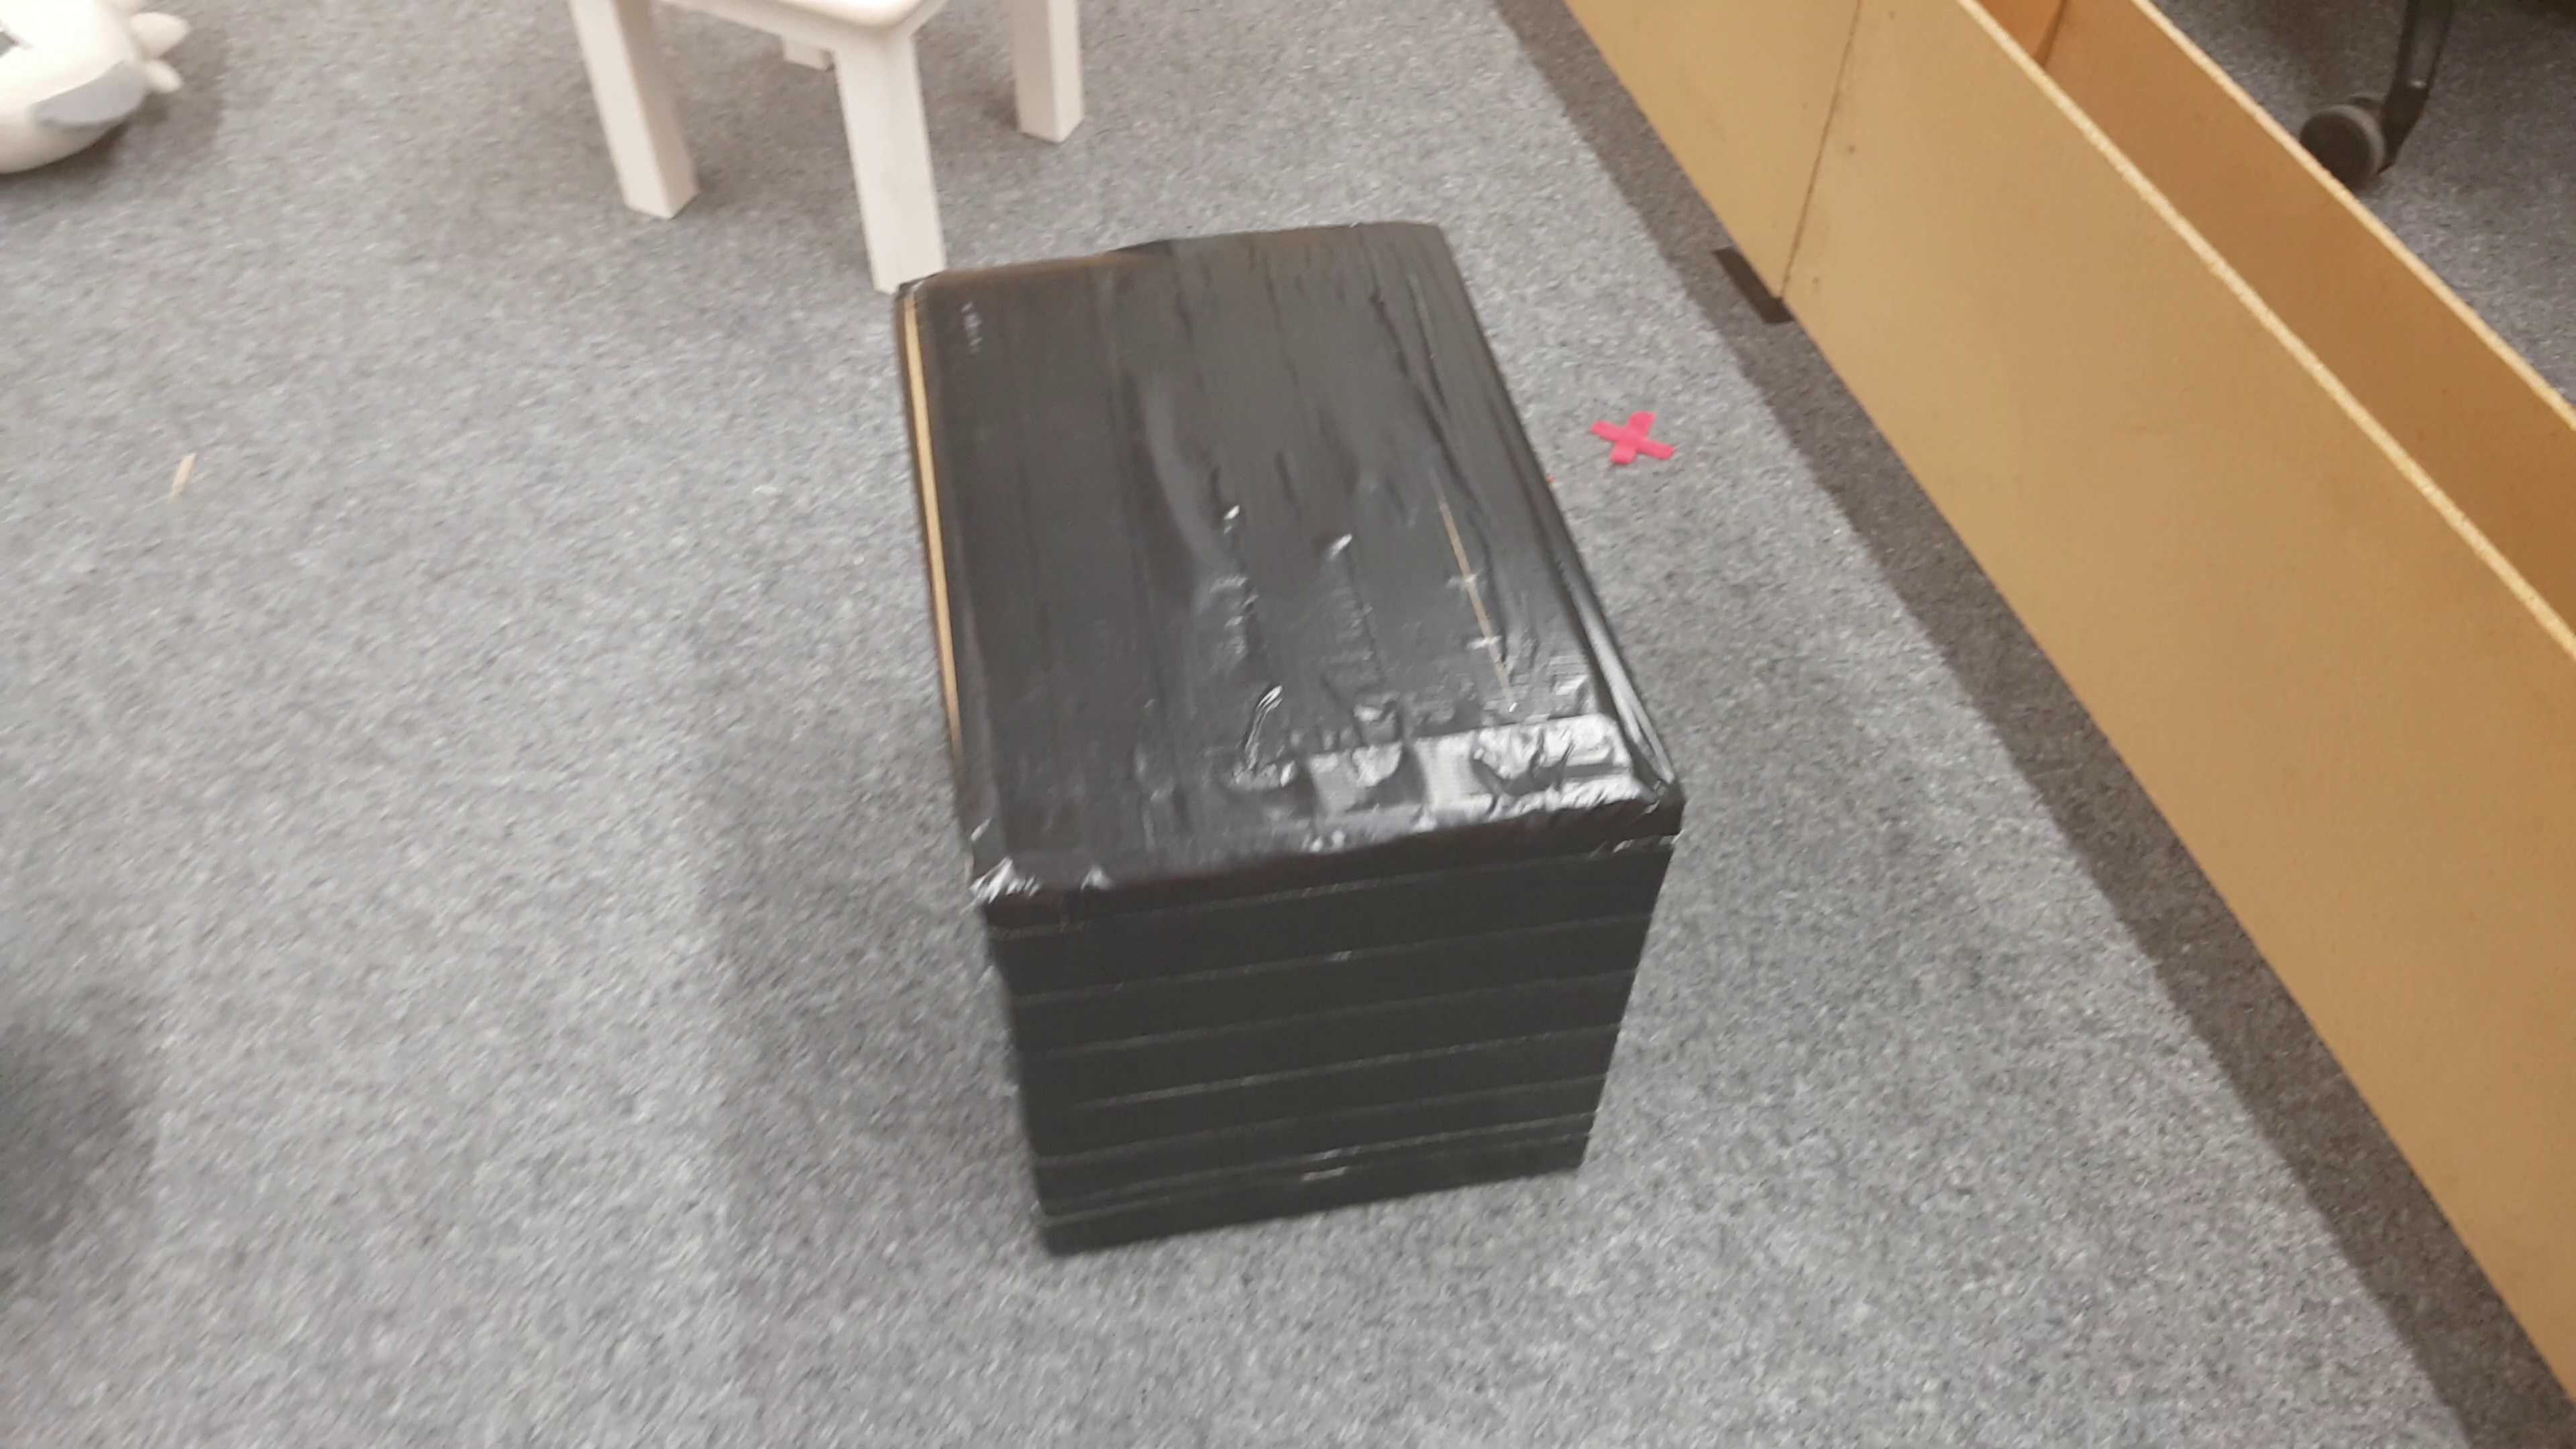push: (888, 223, 1681, 1258)
